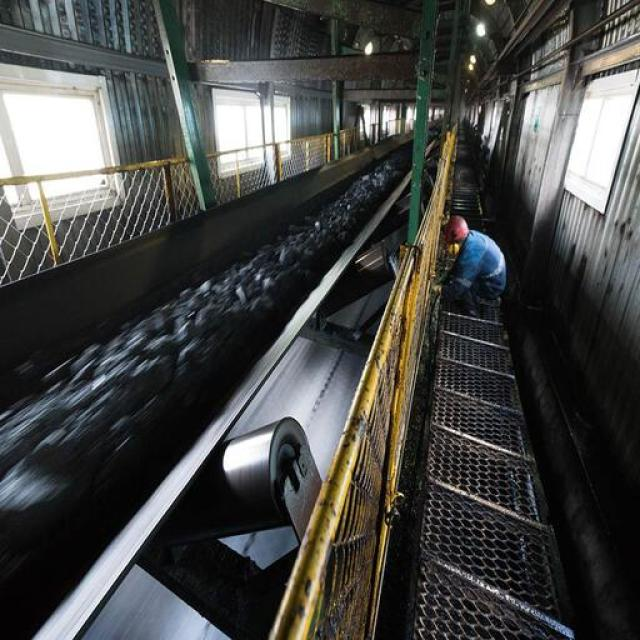conveyor: (0, 121, 450, 640)
